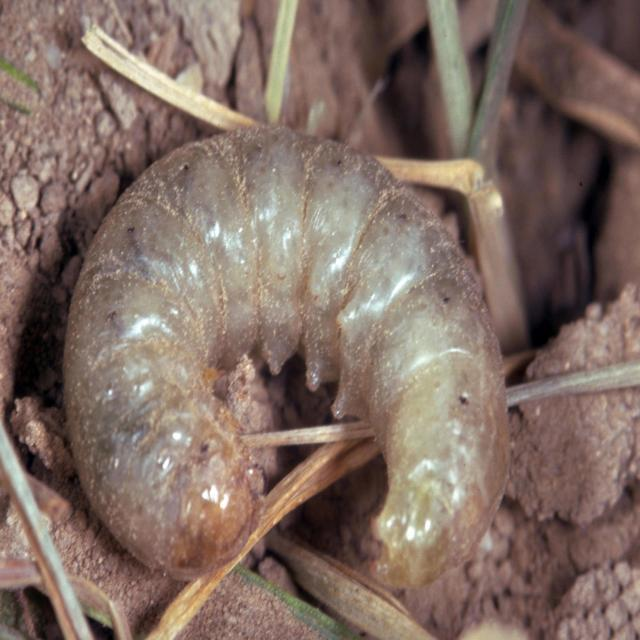Cutworm: (62, 129, 512, 589)
